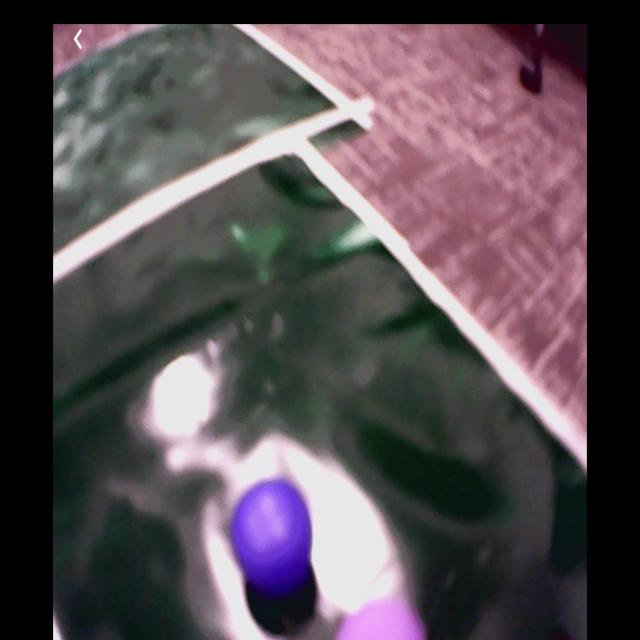ball: (233, 479, 314, 589), (325, 599, 427, 640)
